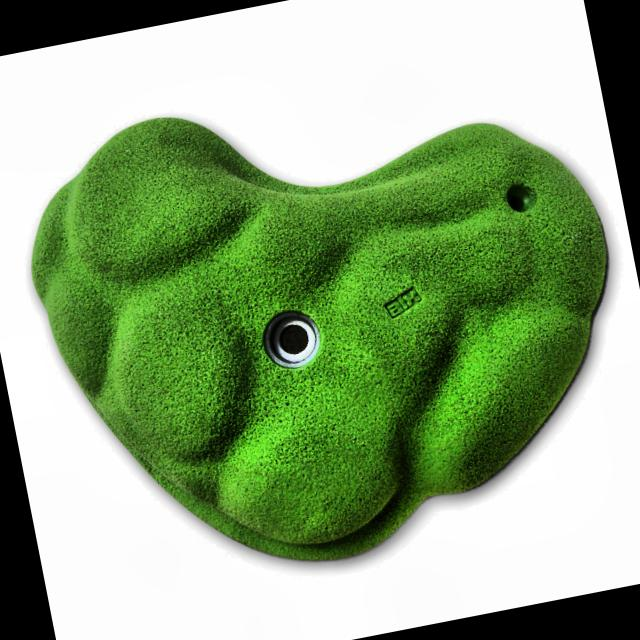Hold: (3, 34, 640, 615)
